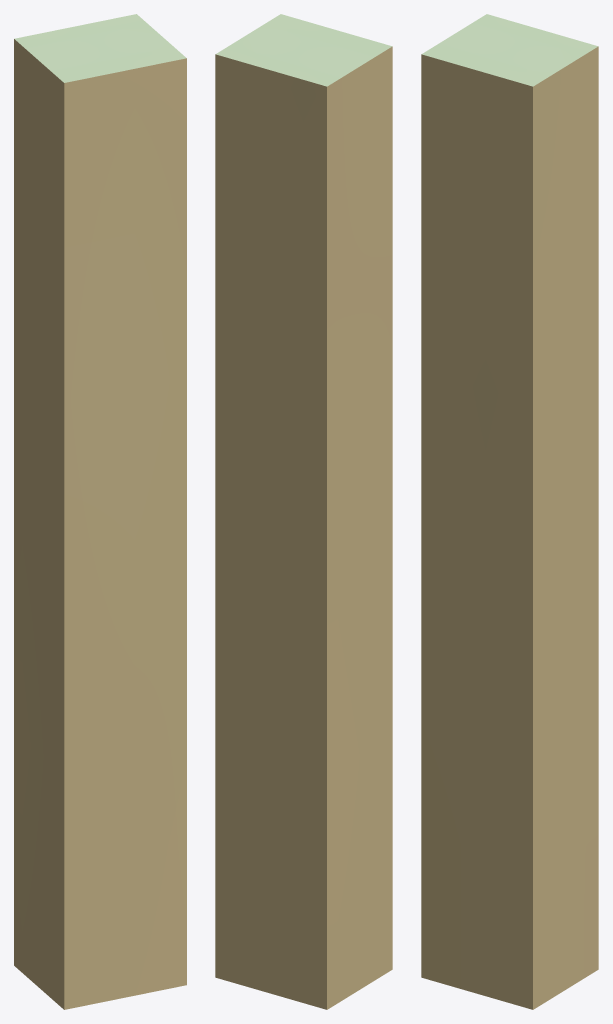
Rendered from Blocks-047.fbx.
3 renders of one model, left to right at view 1: azimuth 30°, elevation 25°; view 2: azimuth 150°, elevation 25°; view 3: azimuth 330°, elevation 25°, orthographic.
Parts seen in each view (by area): view 1: Blocks-047; view 2: Blocks-047; view 3: Blocks-047.
Part boxes in pixels (left/top/right/bottom): Blocks-047: left=14, top=14, right=186, bottom=1009; Blocks-047: left=215, top=14, right=392, bottom=1009; Blocks-047: left=421, top=14, right=598, bottom=1009.
Size of the model in its own units: 4413 by 31230 by 3857.
